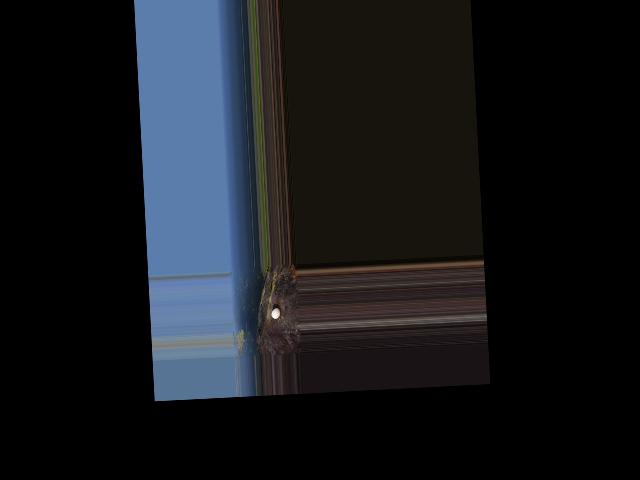egg: (271, 308, 280, 319)
